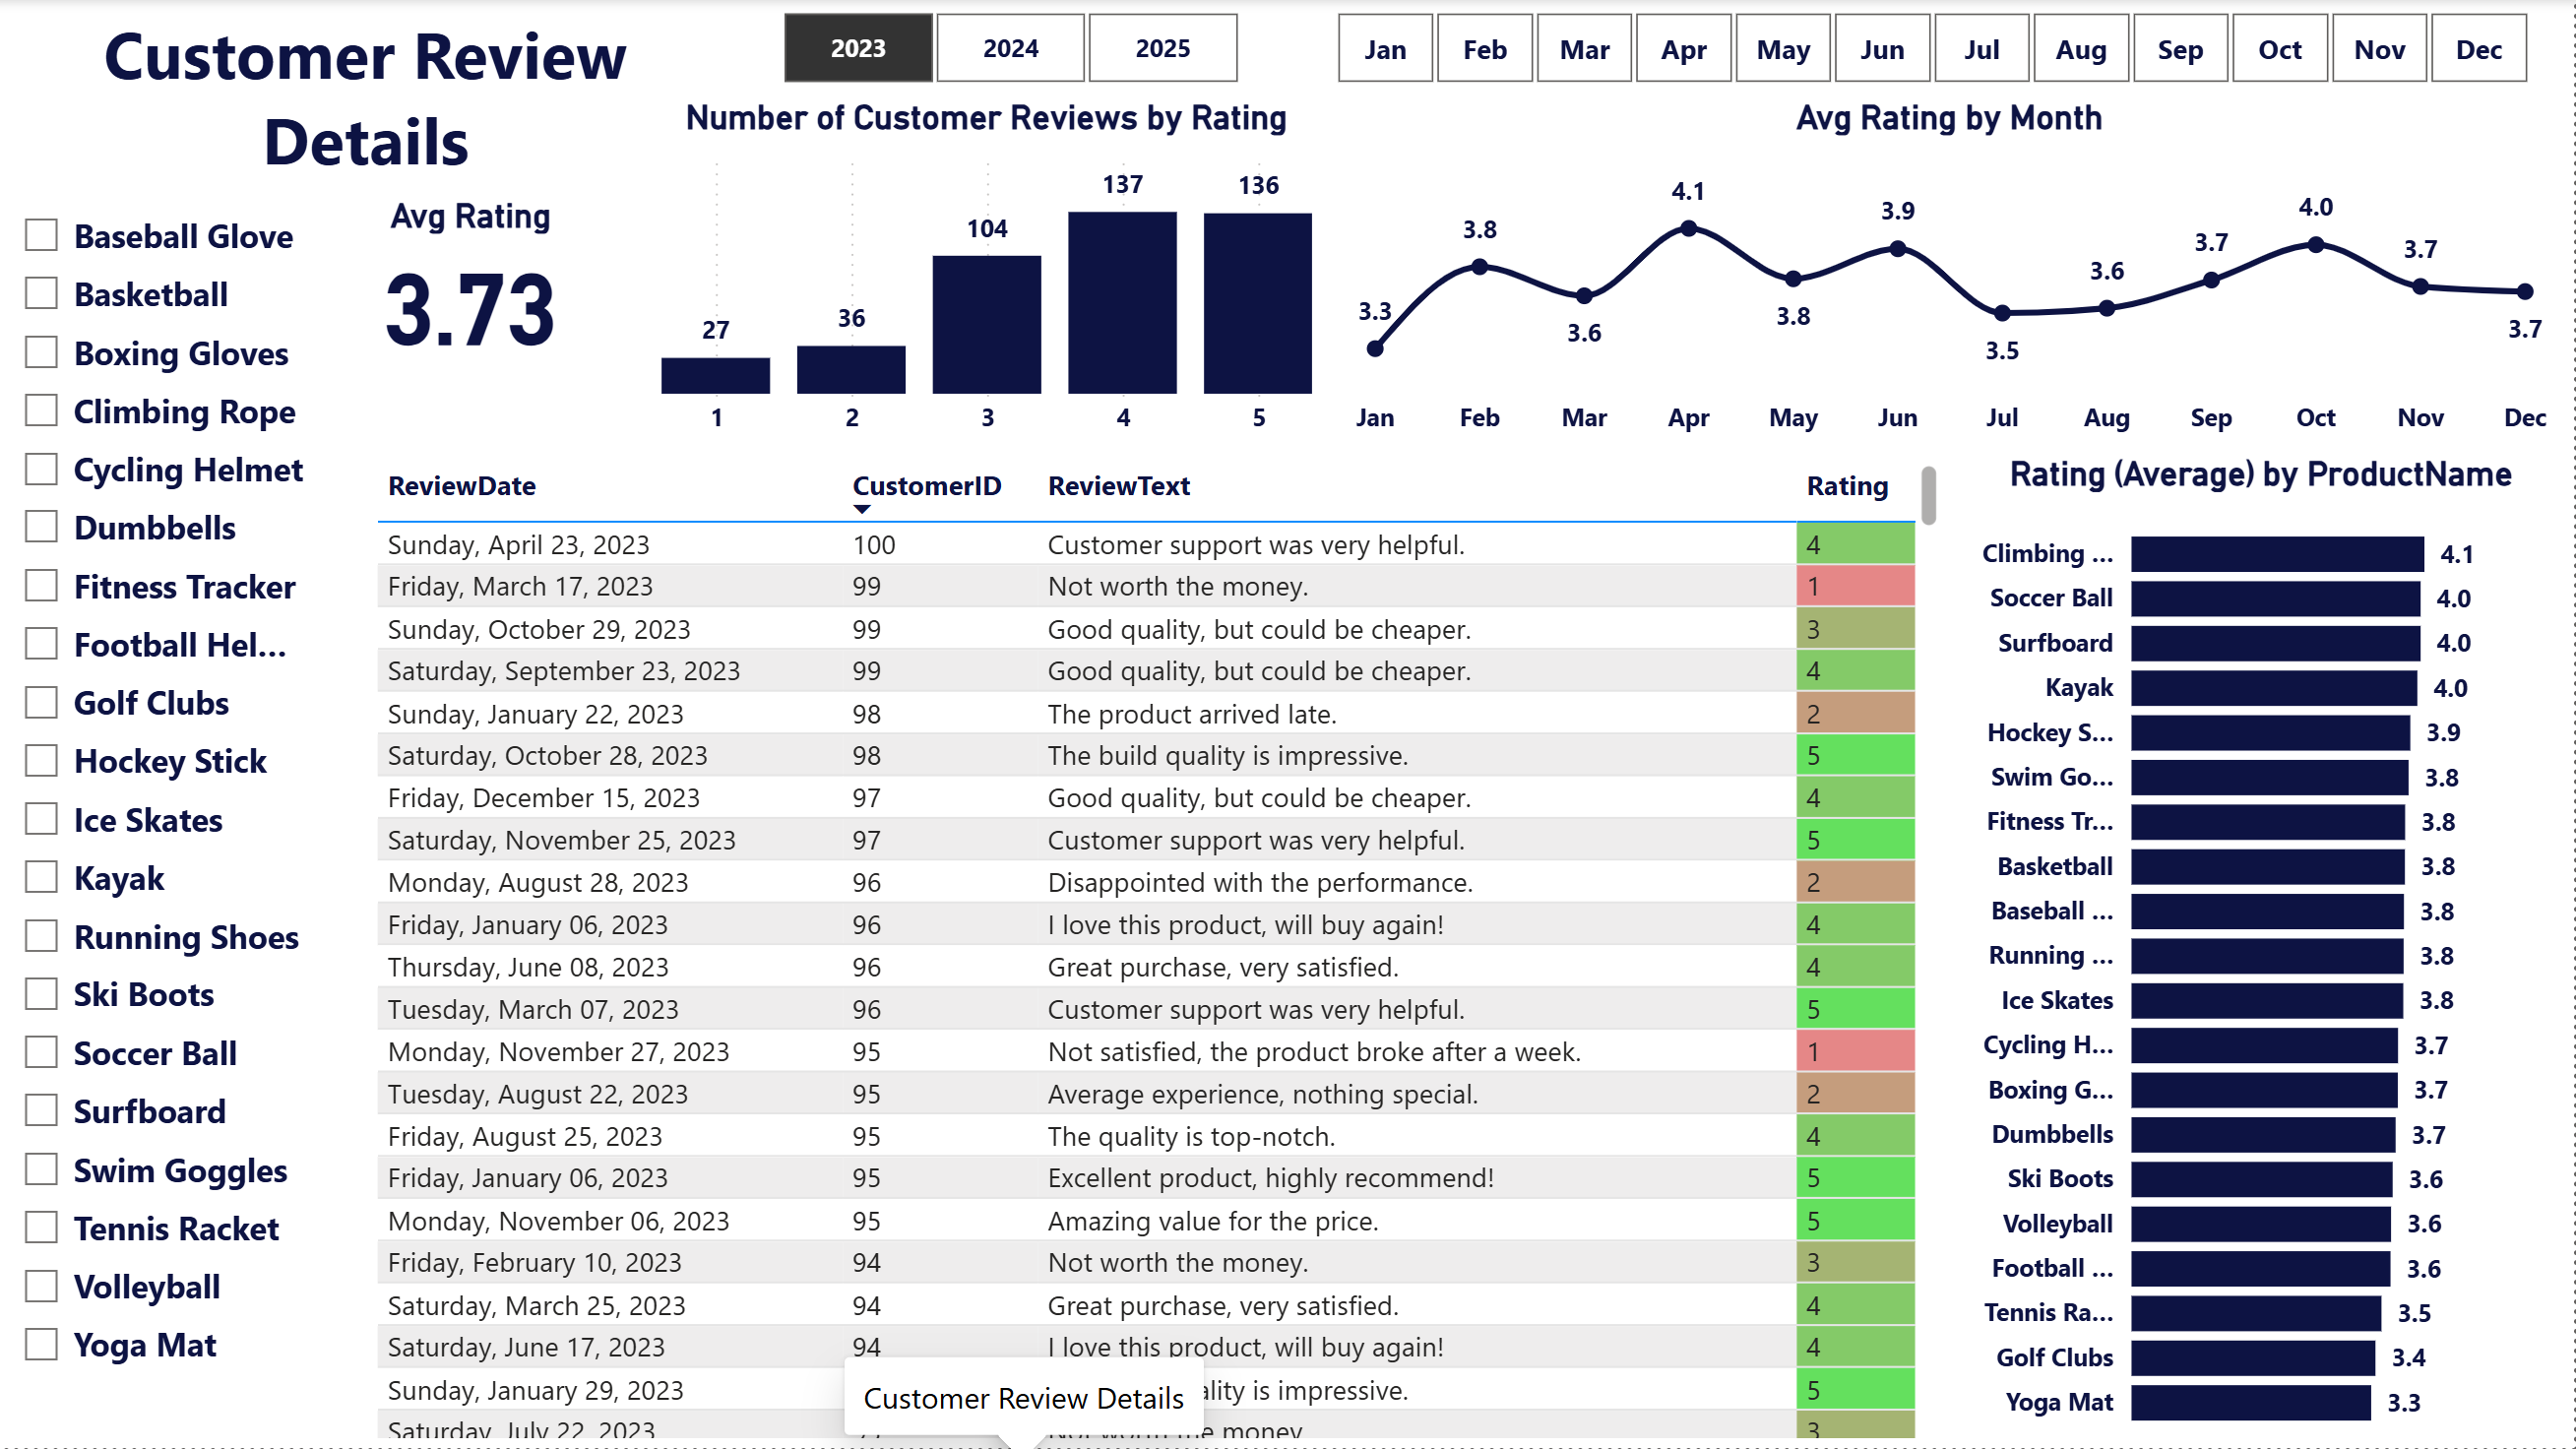

The page's visual inventory and layout, read from the dashboard file:
{"tool":"powerbi","page":{"name":"Customer Review Details","canvas":[1280,720],"ordinal":3},"visuals":[{"type":"slicer","fields":{"Values":["Dim_Products.ProductName"]},"box":[0,97.7,159.3,622.5],"z":0},{"type":"textbox","box":[0,0,364.3,97.7],"z":1000},{"type":"slicer","fields":{"Values":["Calendar.Year"]},"box":[364.3,0,275.1,48.3],"z":2000},{"type":"slicer","fields":{"Values":["Calendar.MonthNameShort"]},"box":[639.4,0,640.6,48.3],"z":3000},{"type":"card","title":"Avg Rating","fields":{"Values":["Calculations.Rating (Average)"]},"box":[159.2,97.4,150.9,82.3],"z":4000},{"type":"columnChart","fields":{"Category":["Fact_CustomerReviews.Rating"],"Y":["Calculations.Number of Customer Reviews"]},"box":[323.8,49.4,333.4,177],"z":5000},{"type":"lineChart","title":"Avg Rating by Month","fields":{"Y":["Calculations.Rating (Average)"],"Category":["Calendar.MonthNameShort"]},"box":[657.3,49.4,623,177],"z":6000},{"type":"clusteredBarChart","fields":{"Category":["Dim_Products.ProductName"],"Y":["Calculations.Rating (Average)"]},"box":[968.8,226.4,311.5,494],"z":7000},{"type":"tableEx","fields":{"Values":["Fact_CustomerReviews.ReviewDate","Fact_CustomerReviews.CustomerID","Fact_CustomerReviews.ReviewText","Fact_CustomerReviews.Rating"]},"box":[182.5,226.4,786.3,494],"z":8000}]}

Visuals, with their boxes in screenshot pixels (x1, y1, x2, y2), scaled from the page's 1280x720 canvas onto the 2576x1449 screenshot:
slicer - Dim_Products.ProductName: left=0, top=197, right=321, bottom=1448
textbox: left=0, top=0, right=733, bottom=197
slicer - Calendar.Year: left=733, top=0, right=1287, bottom=97
slicer - Calendar.MonthNameShort: left=1287, top=0, right=2575, bottom=97
"Avg Rating" card: left=320, top=196, right=624, bottom=361
columnChart - Fact_CustomerReviews.Rating x Calculations.Number of Customer Reviews: left=652, top=99, right=1323, bottom=456
"Avg Rating by Month" lineChart: left=1323, top=99, right=2575, bottom=456
clusteredBarChart - Dim_Products.ProductName x Calculations.Rating (Average): left=1950, top=456, right=2575, bottom=1448
tableEx - Fact_CustomerReviews.ReviewDate x Fact_CustomerReviews.CustomerID: left=367, top=456, right=1950, bottom=1448
